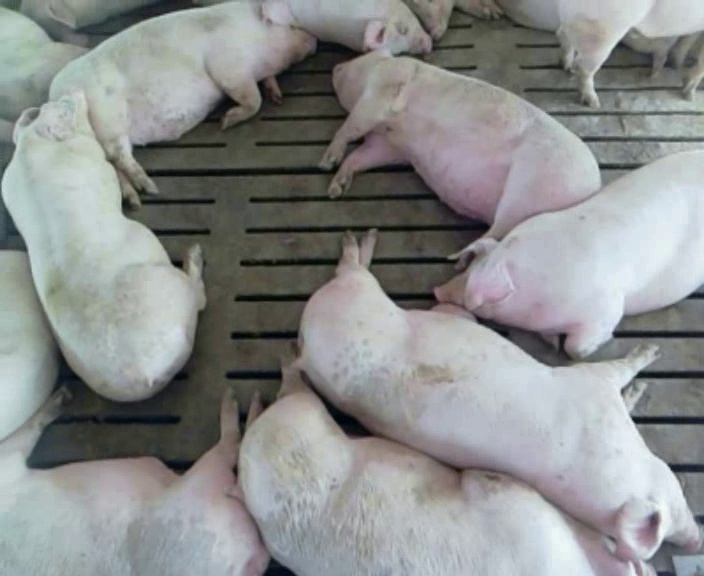pig: (239, 365, 652, 573), (2, 93, 205, 400), (435, 151, 703, 357), (50, 1, 314, 205), (287, 1, 431, 53)
